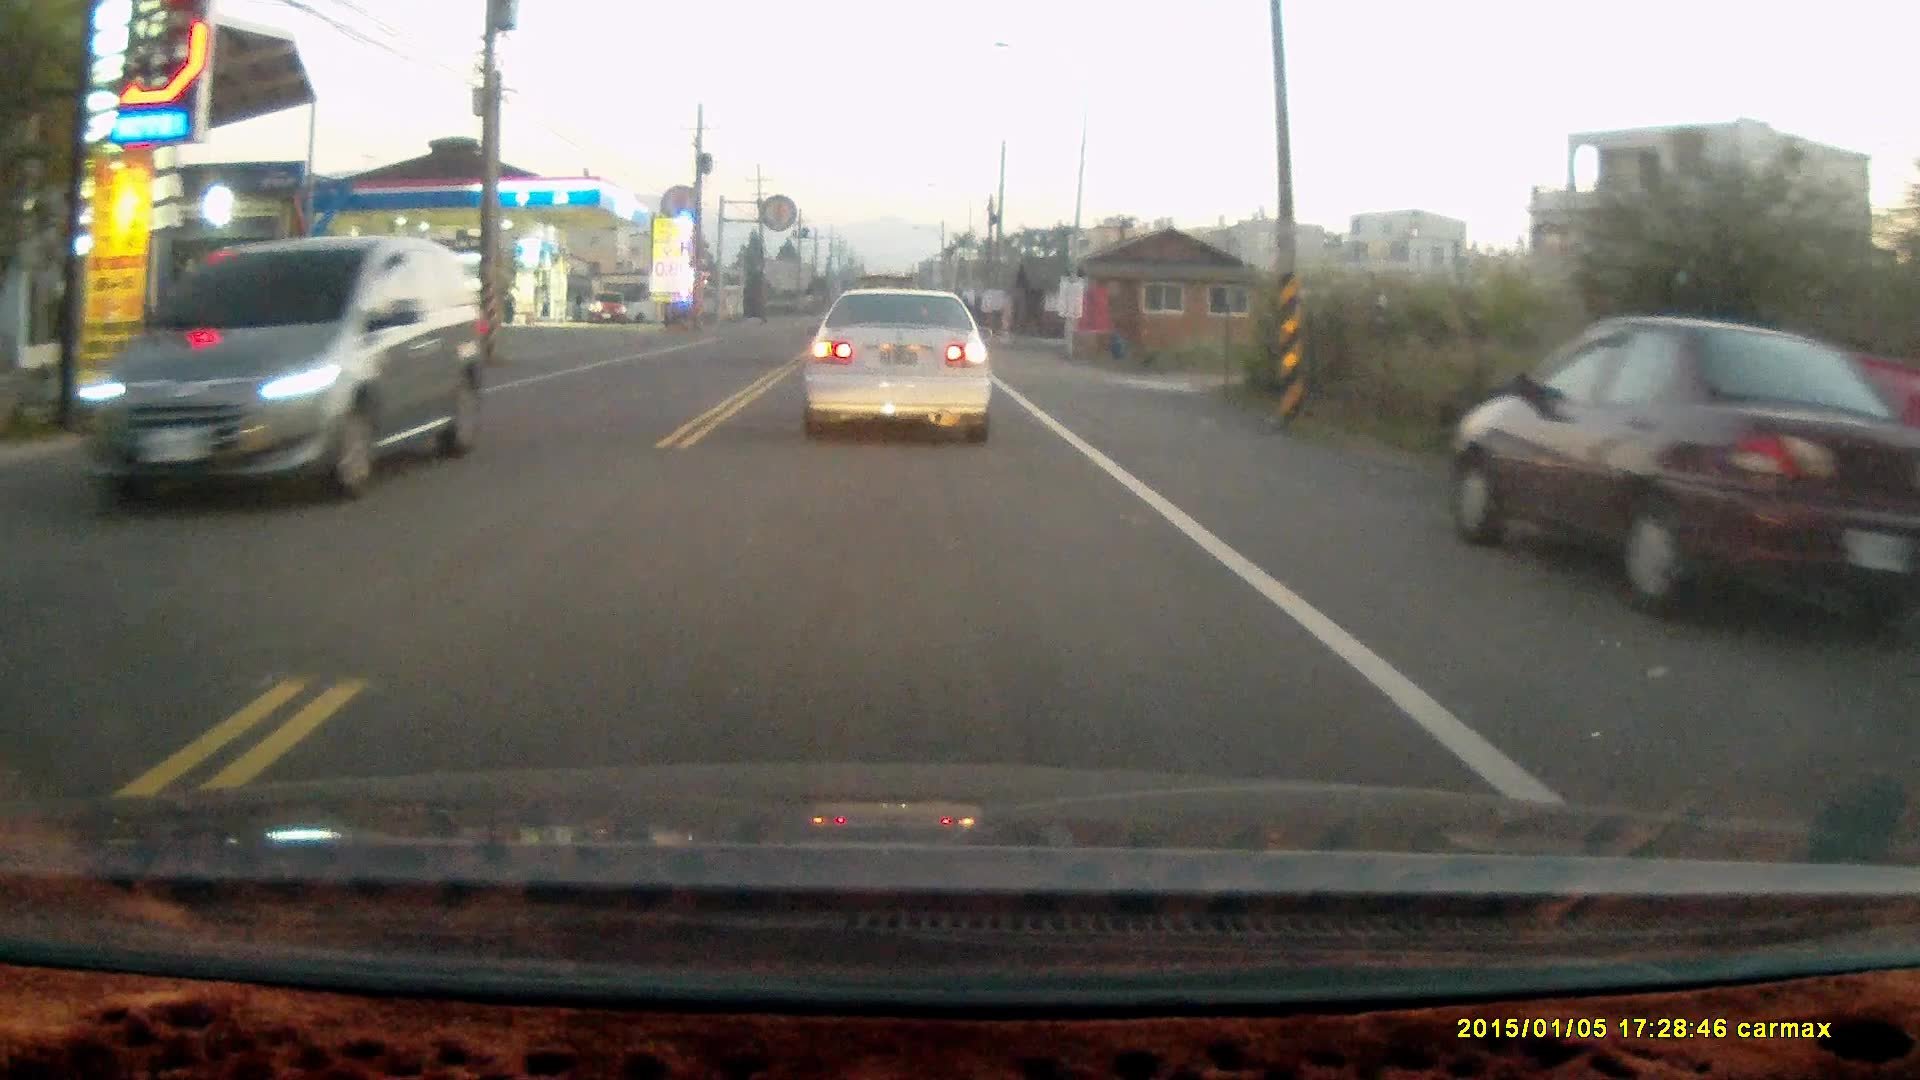vehicle: (1448, 313, 1913, 666), (45, 239, 484, 500), (796, 284, 996, 443), (589, 291, 628, 326)
